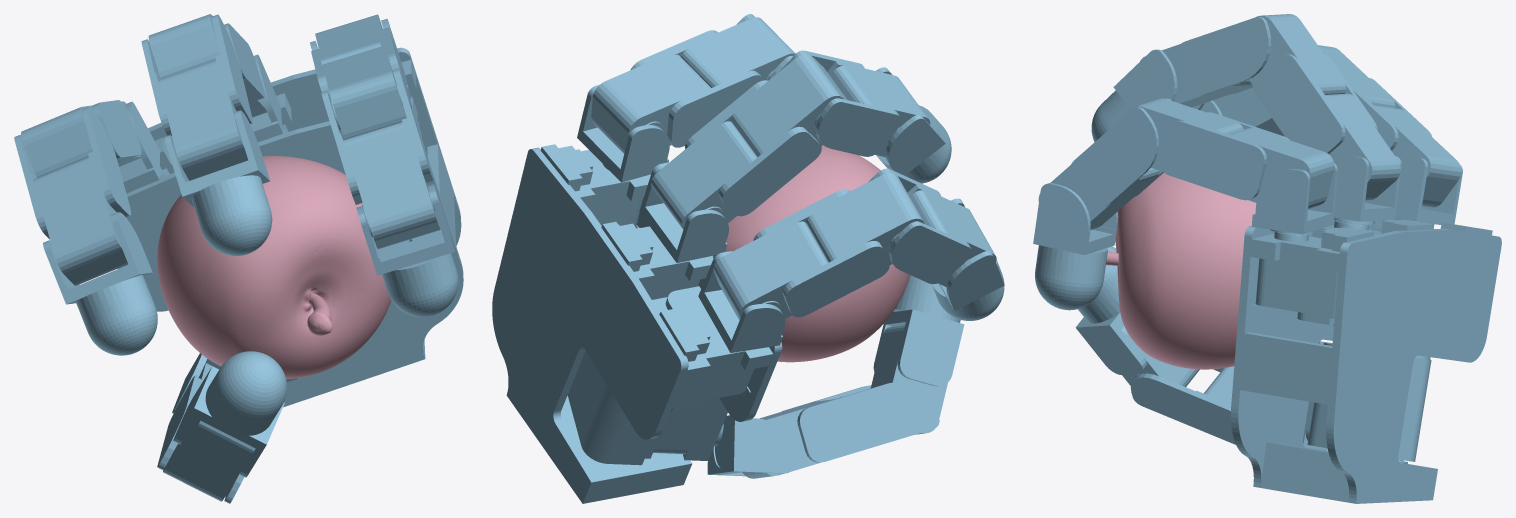
3 renders of one model, left to right at view 1: azimuth 30°, elevation 25°; view 2: azimuth 150°, elevation 25°; view 3: azimuth 270°, elevation 25°, orthographic. The views are drawn at different scales.
Visible parts, largest first — view 1: world, apple.stl; view 2: world, apple.stl; view 3: world, apple.stl.
Part boxes in pixels (bbox=[...]): world: bbox=[14, 14, 463, 503]; apple.stl: bbox=[157, 156, 391, 379]; world: bbox=[492, 14, 1004, 503]; apple.stl: bbox=[725, 145, 910, 362]; world: bbox=[1033, 14, 1501, 503]; apple.stl: bbox=[1106, 172, 1256, 369].
Size of the model in its own units: 0.1795 by 0.1633 by 0.1625.
